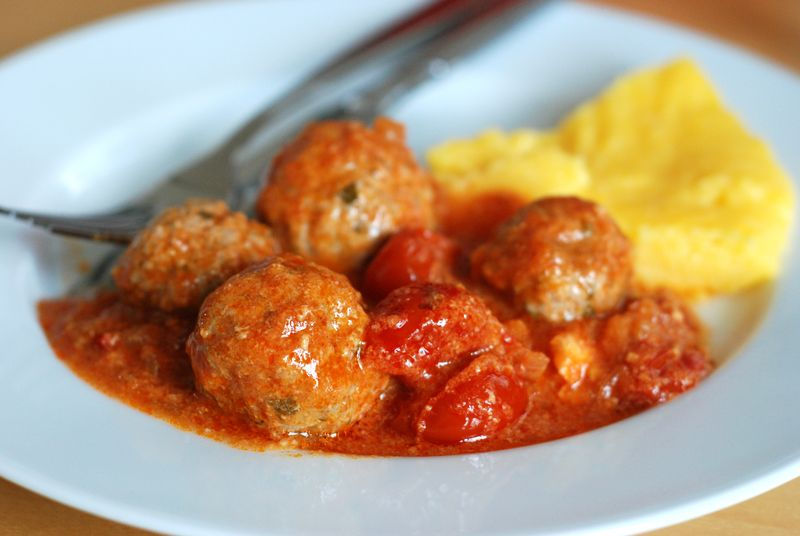meatballs: (194, 250, 371, 419), (257, 121, 407, 254), (465, 199, 624, 302), (114, 195, 255, 292), (384, 282, 483, 393)
